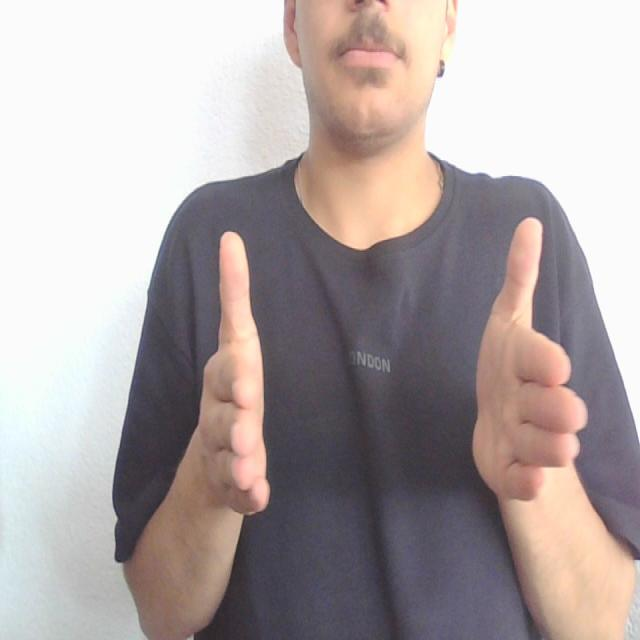Nasil: (176, 184, 603, 550)
